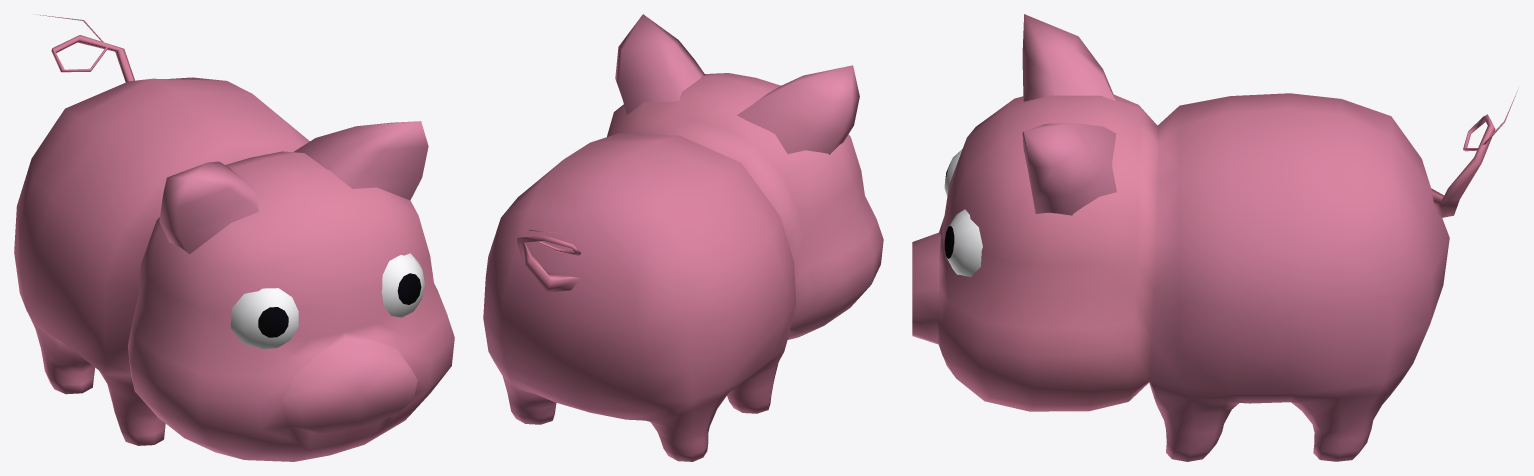
File: Pig.fbx
3 renders of one model, left to right at view 1: azimuth 30°, elevation 25°; view 2: azimuth 150°, elevation 25°; view 3: azimuth 270°, elevation 25°, orthographic. The views are drawn at different scales.
Parts seen in each view (by area): view 1: Pig; view 2: Pig; view 3: Pig.
Part boxes in pixels (x1,y1,x2,y2): Pig: (14,14,454,461); Pig: (483,14,883,461); Pig: (912,14,1517,461).
Bounding box in the file's own units: 85.82 × 92.79 × 151.
